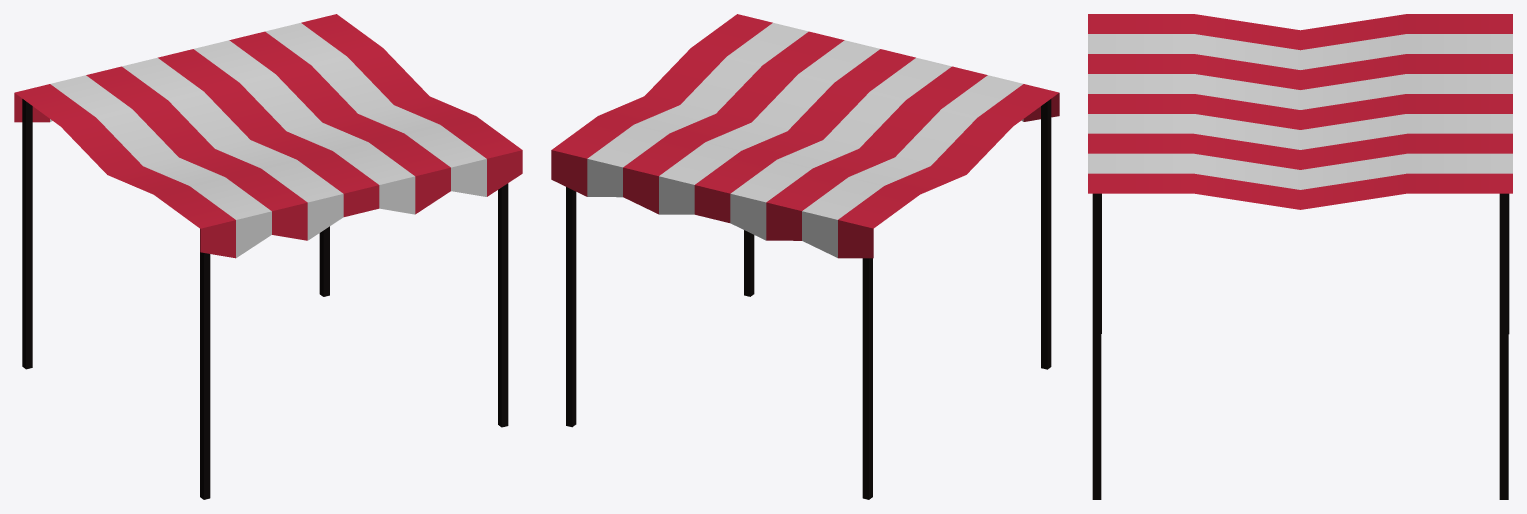
Rendered from Foodtent2.FBX.
3 renders of one model, left to right at view 1: azimuth 30°, elevation 25°; view 2: azimuth 150°, elevation 25°; view 3: azimuth 270°, elevation 25°, orthographic. The views are drawn at different scales.
Visible parts, largest first — view 1: FoodTent2; view 2: FoodTent2; view 3: FoodTent2.
Part boxes in pixels (x1,y1,x2,y2): FoodTent2: (14,14,522,499); FoodTent2: (551,14,1059,499); FoodTent2: (1088,14,1512,499).
Size of the model in its own units: 20.09 by 16.33 by 20.08.
